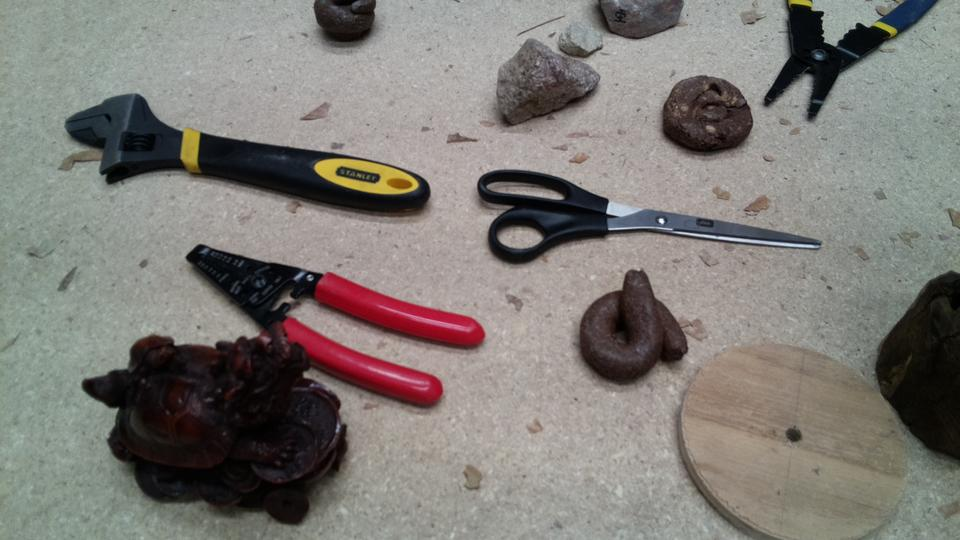poop: (575, 264, 691, 385), (658, 73, 752, 158), (308, 1, 379, 45)
